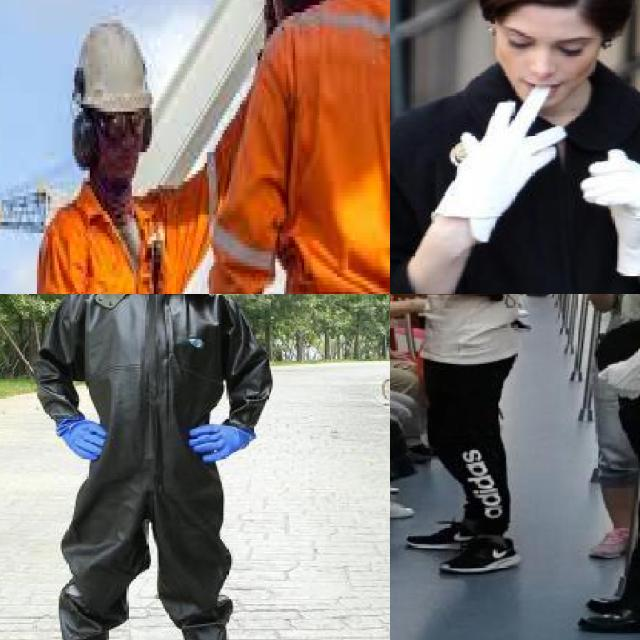Ear-protection: (66, 104, 96, 167)
No_Glasses: (503, 22, 588, 64)
boots: (41, 609, 107, 640)
face_nomask: (503, 8, 592, 114)
glasses: (94, 100, 145, 148)
hand_glove: (442, 84, 556, 226), (577, 145, 640, 241), (188, 420, 253, 462), (597, 354, 640, 402), (64, 416, 106, 459)
hand_noglove: (390, 345, 409, 368)
head_helmet: (68, 12, 156, 116)
head_nohelmet: (471, 0, 631, 24)
person: (45, 294, 272, 640), (390, 0, 640, 294), (191, 0, 390, 294), (35, 6, 194, 294), (401, 294, 541, 583), (589, 294, 640, 640)
shoes: (440, 532, 523, 582), (405, 516, 487, 556), (578, 591, 640, 639), (587, 522, 635, 562)
